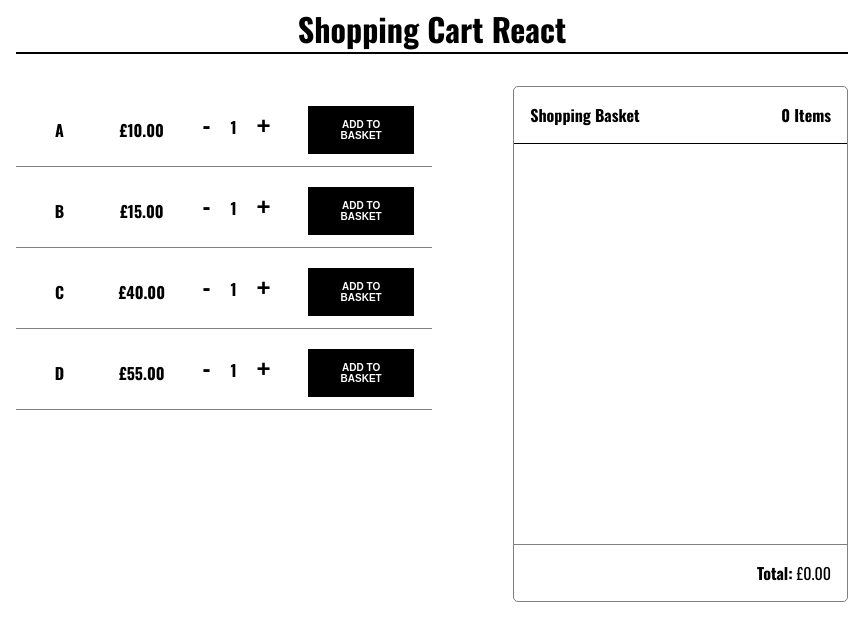
Test case: App tests › should apply promotion of 25% off to evey multiple of 2
Step 1. Click the button with test id "add-to-basket-button-product-D" → (361, 373), box [308,349,414,397]
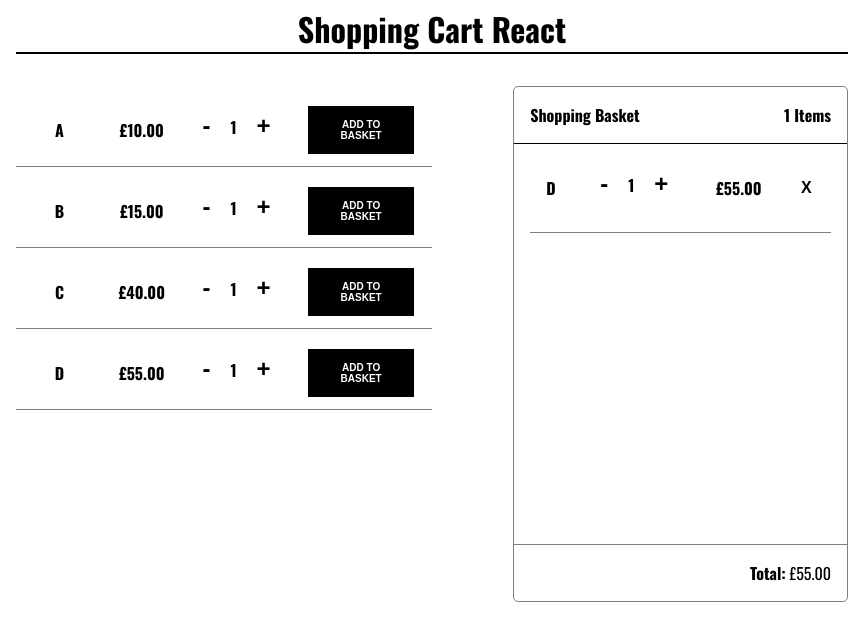
Step 2. Click the button with test id "add-to-basket-button-product-D" → (361, 373), box [308,349,414,397]
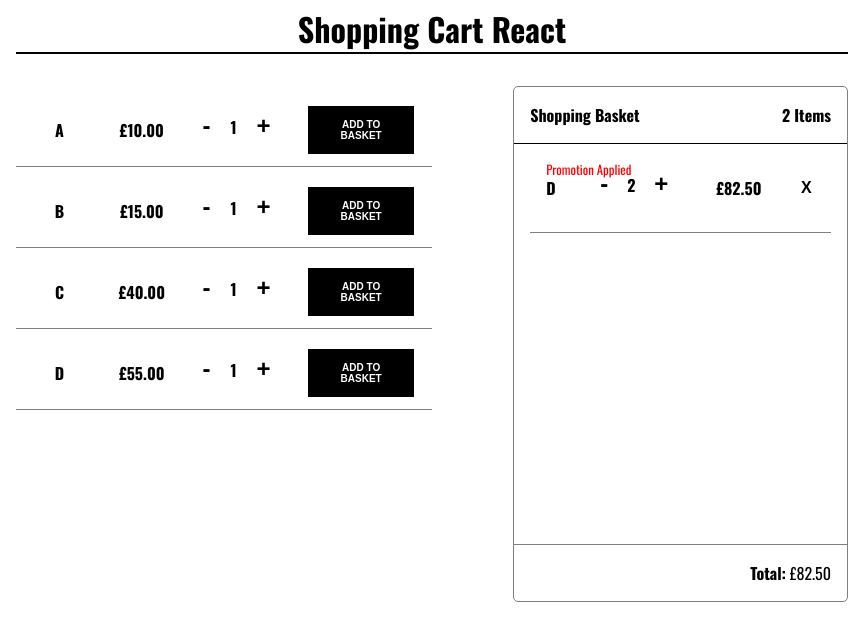
Now the element with test id "shopping-basket-total-price" reads "Total: £82.50", box [514,544,847,601]
